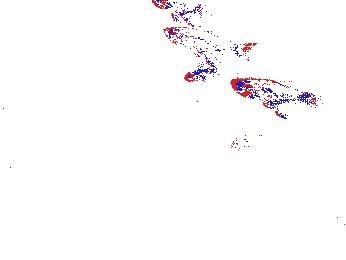red belly glassfish: (229, 131, 263, 153), (183, 67, 215, 83)
redtail glassfish: (161, 26, 259, 65), (230, 77, 320, 118), (147, 1, 207, 20)
